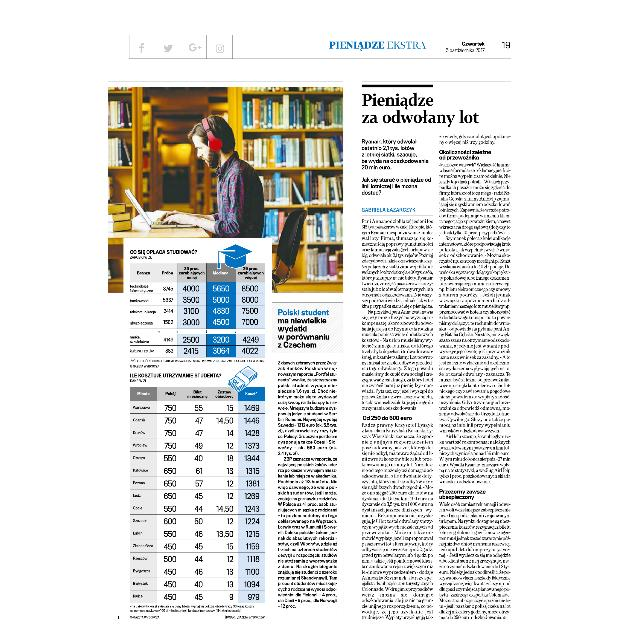article: (362, 82, 514, 624)
